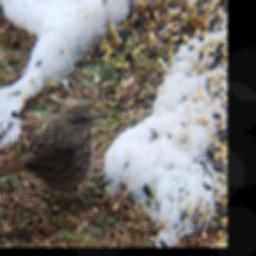Sparrow: (0, 101, 101, 209)
